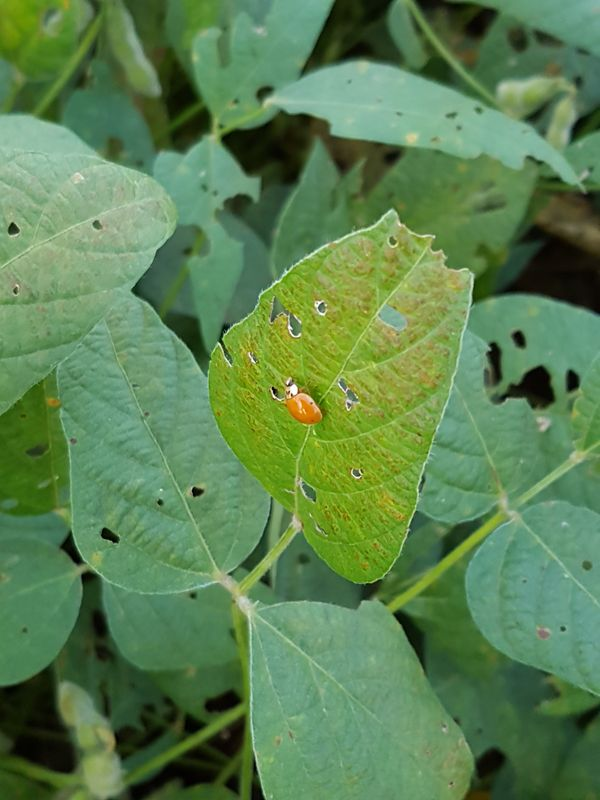Coccinellidae: (261, 374, 334, 434)
